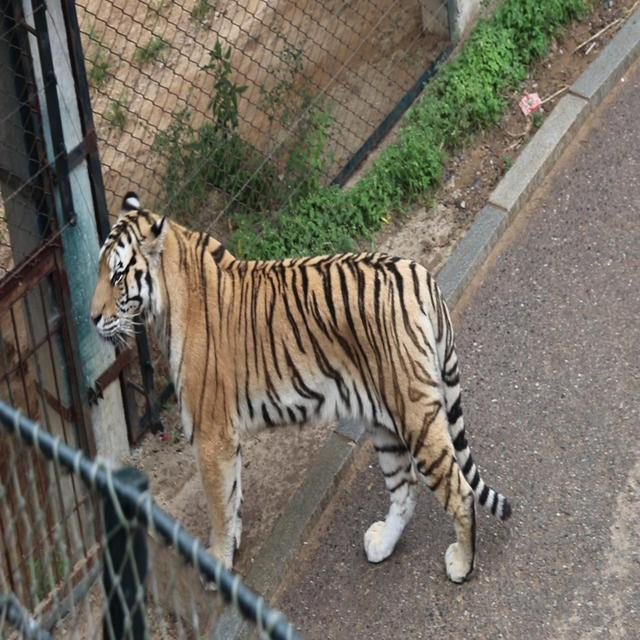tiger: (88, 190, 513, 592)
